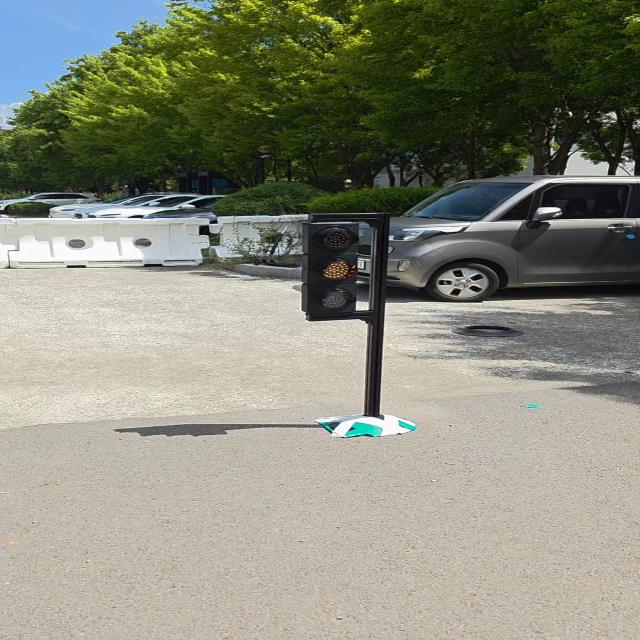yellow: (304, 215, 360, 319)
